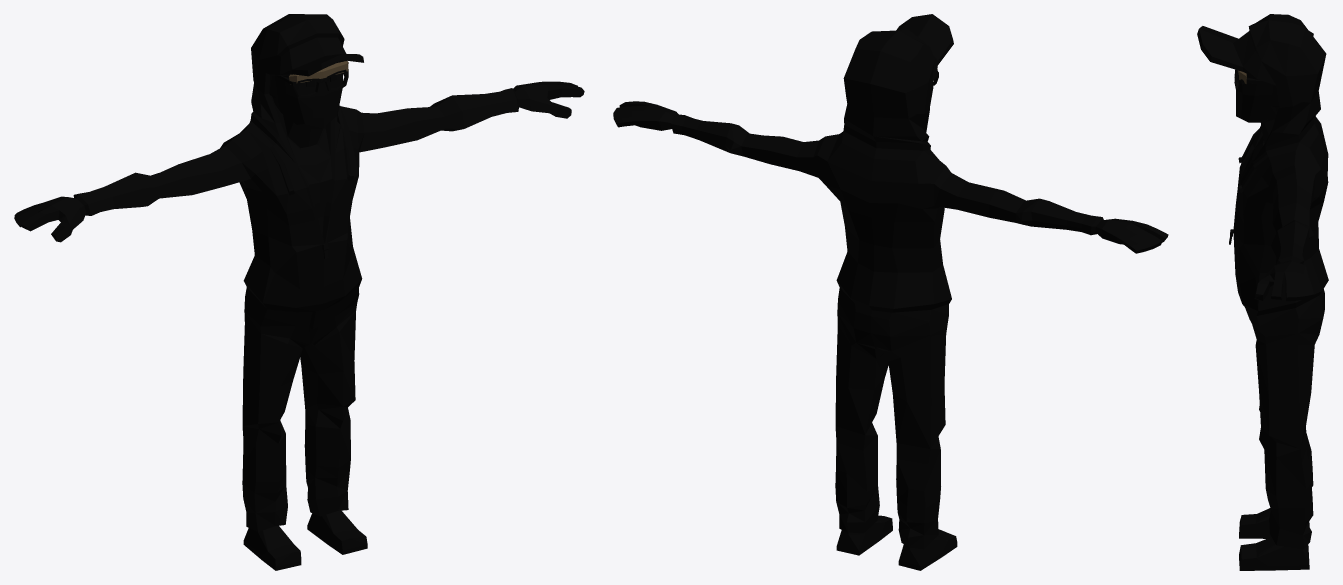
The model's file is son.glb.
3 views of the same model, side by side, from view 1: azimuth 30°, elevation 25°; view 2: azimuth 150°, elevation 25°; view 3: azimuth 270°, elevation 25° (orthographic). The views are drawn at different scales.
Parts seen in each view (by area): view 1: Character_Son_01_1; view 2: Character_Son_01_1; view 3: Character_Son_01_1.
Part boxes in pixels (x1=…): Character_Son_01_1: x1=14, y1=14, x2=584, y2=570; Character_Son_01_1: x1=613, y1=14, x2=1168, y2=570; Character_Son_01_1: x1=1197, y1=14, x2=1328, y2=570.
Bounding box in the file's own units: 2.05 × 1.85 × 0.4175.
Materials: 1 (1 with a texture image).
